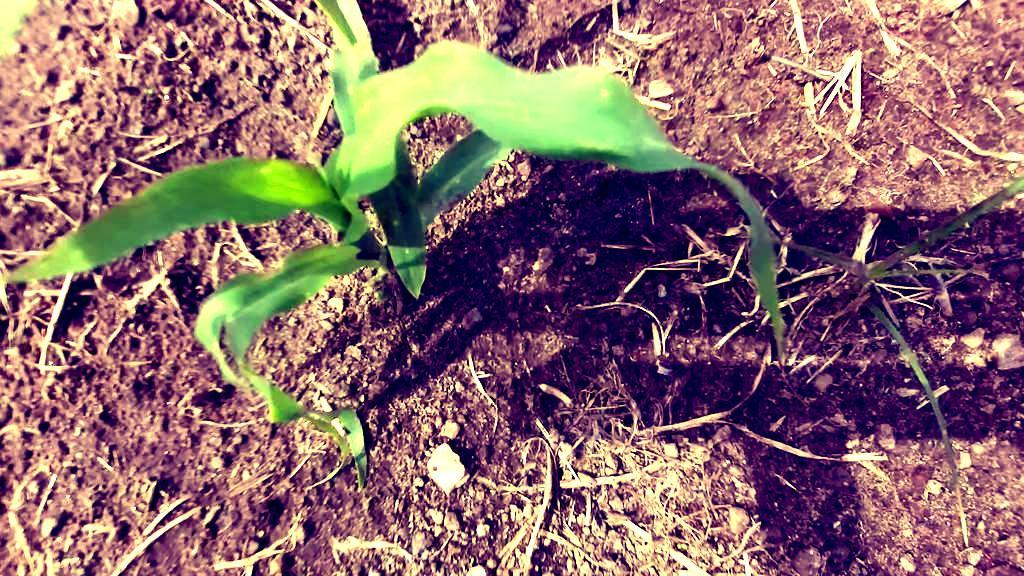BroWeed: (142, 86, 154, 96), (256, 529, 264, 539), (74, 427, 81, 437), (677, 543, 687, 550)
